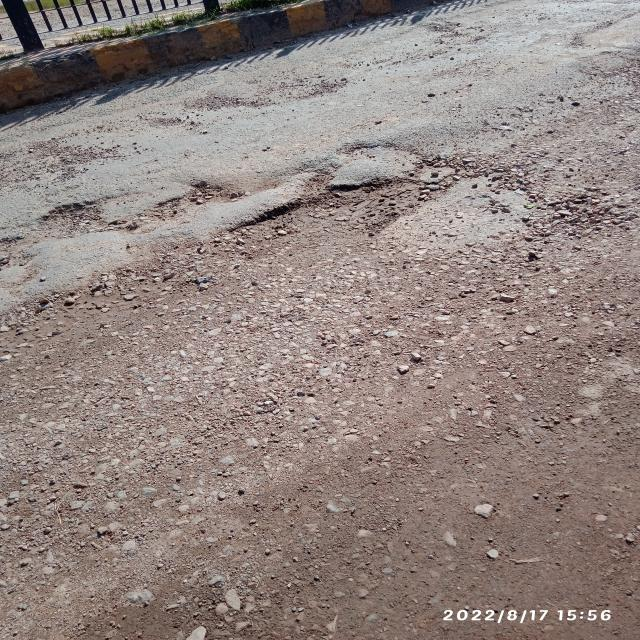potholes: (0, 141, 470, 259)
